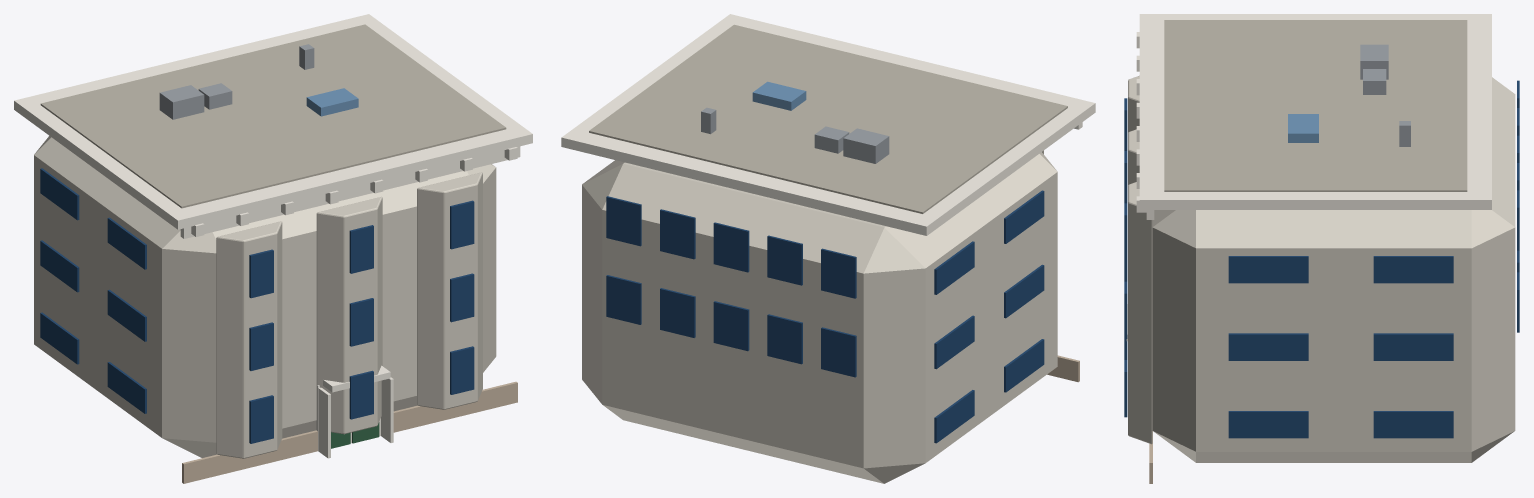
File: apt_w16_f3_bays.glb
3 renders of one model, left to right at view 1: azimuth 30°, elevation 25°; view 2: azimuth 150°, elevation 25°; view 3: azimuth 270°, elevation 25°, orthographic. The views are drawn at different scales.
Parts seen in each view (by area): view 1: walls, roofslab, corn, bay, bay.002, bay.001, bsmt, frieze, hvac, bw.004, bw.006, bw (+16 smaller); view 2: walls, roofslab, corn, win.002, win.007, win.008, win, win.006, win.001, win.009, win.004, win.005 (+11 smaller); view 3: walls, roofslab, corn, bay.002, sb.005, sb.007, sb.001, sb.003, sb.009, sb.011, skylt, hvac (+3 smaller).
Boxes of the visible parts, left/top/right/bottom form: walls: left=34, top=136, right=496, bottom=457; roofslab: left=40, top=24, right=506, bottom=208; corn: left=14, top=14, right=532, bottom=229; bay: left=216, top=221, right=282, bottom=458; bay.002: left=417, top=172, right=482, bottom=409; bay.001: left=316, top=196, right=382, bottom=434; bsmt: left=182, top=381, right=517, bottom=483; frieze: left=180, top=146, right=520, bottom=238; hvac: left=159, top=85, right=204, bottom=119; bw.004: left=349, top=298, right=373, bottom=346; bw.006: left=450, top=346, right=474, bottom=394; bw: left=249, top=395, right=273, bottom=443; walls: left=582, top=152, right=1057, bottom=483; roofslab: left=589, top=24, right=1067, bottom=213; corn: left=561, top=14, right=1095, bottom=235; win.002: left=713, top=301, right=749, bottom=351; win.007: left=713, top=222, right=749, bottom=272; win.008: left=660, top=209, right=695, bottom=259; win: left=821, top=327, right=856, bottom=377; win.006: left=767, top=235, right=802, bottom=285; win.001: left=767, top=314, right=802, bottom=364; win.009: left=606, top=196, right=641, bottom=246; win.004: left=606, top=275, right=641, bottom=324; win.005: left=821, top=248, right=856, bottom=298; walls: left=1152, top=77, right=1515, bottom=462; roofslab: left=1164, top=20, right=1467, bottom=191; corn: left=1139, top=14, right=1491, bottom=209; bay.002: left=1128, top=182, right=1152, bottom=444; sb.005: left=1228, top=333, right=1308, bottom=360; sb.007: left=1373, top=333, right=1453, bottom=360; sb.001: left=1228, top=411, right=1308, bottom=438; sb.003: left=1373, top=411, right=1453, bottom=438; sb.009: left=1228, top=256, right=1308, bottom=283; sb.011: left=1373, top=256, right=1453, bottom=283; skylt: left=1288, top=114, right=1318, bottom=142; hvac: left=1360, top=44, right=1388, bottom=79.
Size of the model in its own units: 17 by 13.3 by 15.26.
